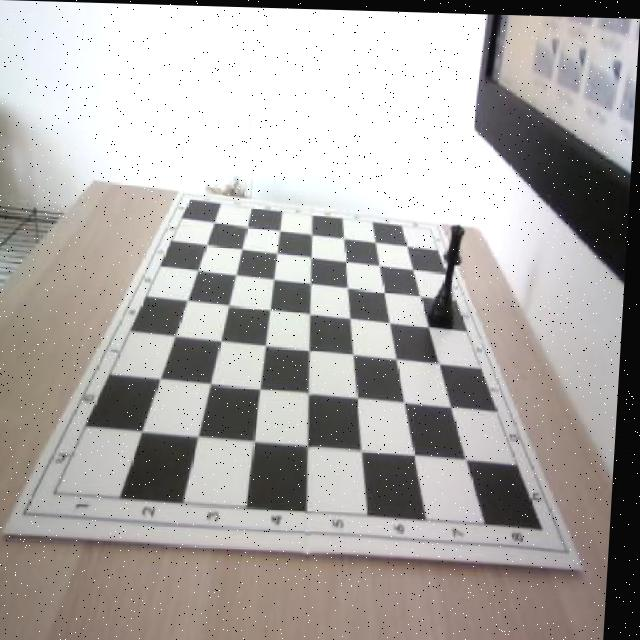black-pawn: (431, 220, 470, 325)
